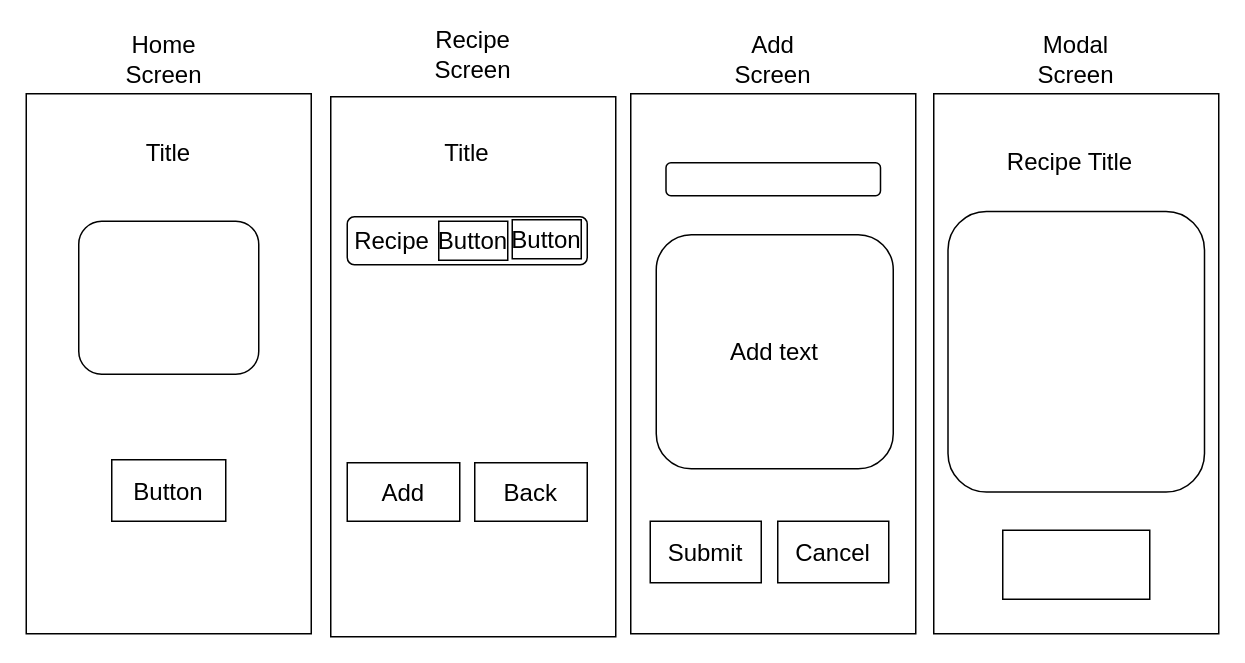
Some shapes in this 1245 by 663 pixel diagram are drawn without their labels. The shapes that lost their labels are listed below. From the top down, each one's centre as x and y in pixels, then its label:
At point 772,178: "Add title".
At point 168,297: "Image".
At point 1075,351: "Recipe text".
At point 1075,564: "Close".
